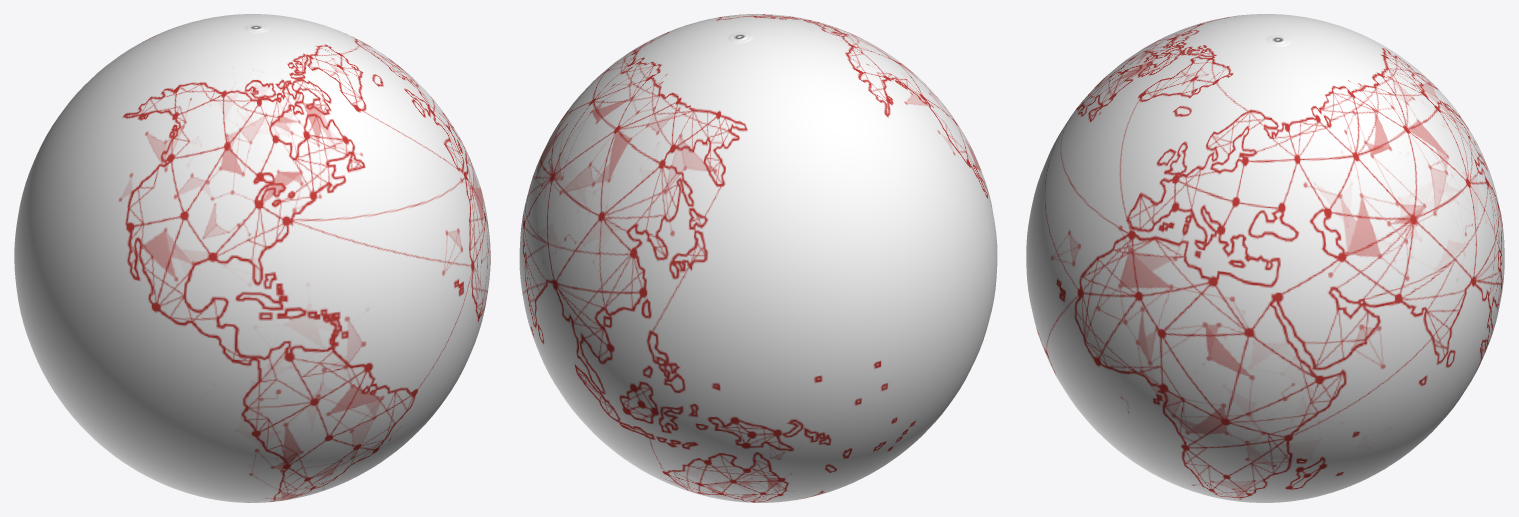
Rendered from globe-3d-rotation.glb.
3 views of the same model, side by side, from view 1: azimuth 30°, elevation 25°; view 2: azimuth 150°, elevation 25°; view 3: azimuth 270°, elevation 25° (orthographic).
Parts seen in each view (by area): view 1: 3521036_887 [Converted]-01; view 2: 3521036_887 [Converted]-01; view 3: 3521036_887 [Converted]-01.
Part boxes in pixels (x1,y1,x2,y2): 3521036_887 [Converted]-01: (14, 14, 490, 502); 3521036_887 [Converted]-01: (519, 14, 997, 502); 3521036_887 [Converted]-01: (1026, 14, 1504, 502).
Size of the model in its own units: 2.73 by 2.84 by 2.73.
Materials: 1 (1 with a texture image).
